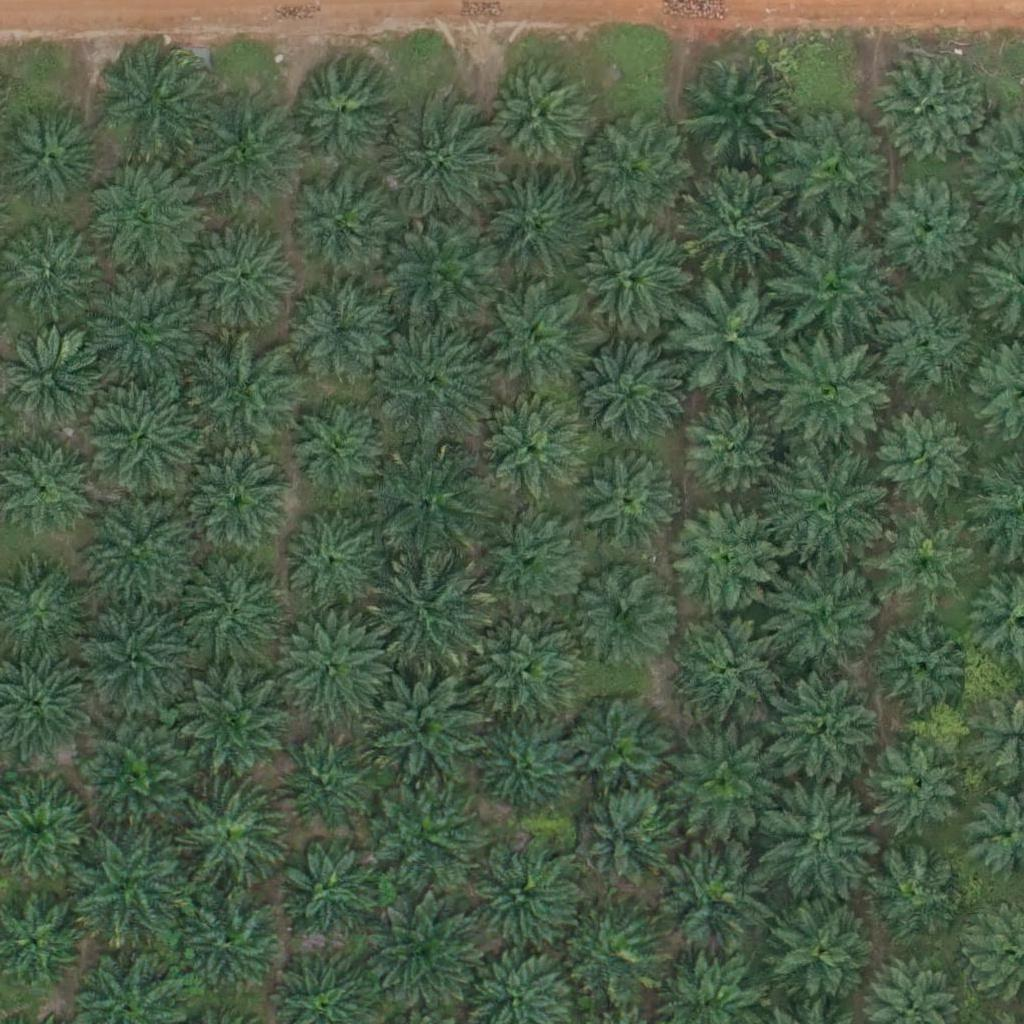Kelapa_Sawit: (778, 334, 891, 448), (675, 278, 788, 392), (483, 283, 596, 397), (370, 676, 483, 790), (264, 837, 377, 951), (176, 444, 289, 558), (170, 777, 283, 891), (875, 56, 988, 169), (773, 117, 886, 230), (758, 793, 871, 906), (665, 725, 778, 838), (672, 609, 785, 722), (664, 498, 777, 611), (576, 113, 689, 226), (577, 217, 690, 330), (570, 449, 683, 562), (565, 557, 678, 670), (562, 691, 675, 804), (463, 615, 576, 728), (474, 172, 587, 285), (388, 218, 501, 331), (368, 322, 481, 435), (286, 165, 399, 278), (179, 101, 292, 214), (180, 222, 293, 335), (173, 562, 286, 675), (93, 50, 206, 163), (86, 167, 199, 280), (90, 382, 203, 495), (83, 484, 196, 597), (763, 898, 876, 1011), (554, 898, 667, 1011), (773, 563, 885, 677), (481, 391, 593, 505), (284, 55, 396, 169), (176, 669, 288, 783), (81, 593, 193, 707), (866, 284, 978, 397), (776, 232, 888, 345), (772, 452, 884, 565), (769, 669, 881, 782), (655, 850, 767, 963), (685, 53, 797, 166), (678, 164, 790, 277), (571, 342, 683, 455), (475, 835, 587, 948), (474, 503, 586, 616), (382, 106, 494, 219), (375, 446, 487, 559), (376, 559, 488, 672), (368, 786, 480, 899), (277, 612, 389, 725), (195, 334, 307, 447), (88, 278, 200, 391), (70, 837, 182, 950), (369, 896, 481, 1009), (173, 896, 285, 1009), (877, 610, 977, 711), (871, 402, 971, 503), (876, 170, 976, 271), (578, 788, 678, 889), (477, 724, 577, 825), (484, 66, 584, 167), (279, 737, 379, 838), (279, 504, 379, 605), (292, 288, 392, 389), (2, 102, 102, 203), (1, 231, 101, 332), (870, 734, 970, 834), (876, 509, 976, 609), (680, 398, 780, 498), (286, 403, 386, 503), (80, 720, 180, 820), (868, 848, 956, 936)
